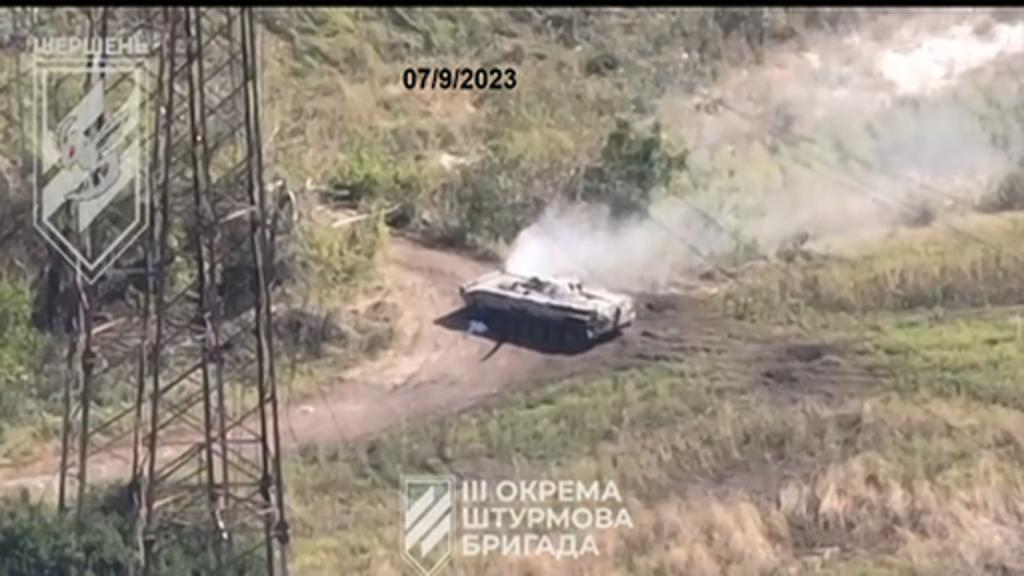APC-IFV: (448, 252, 634, 350)
